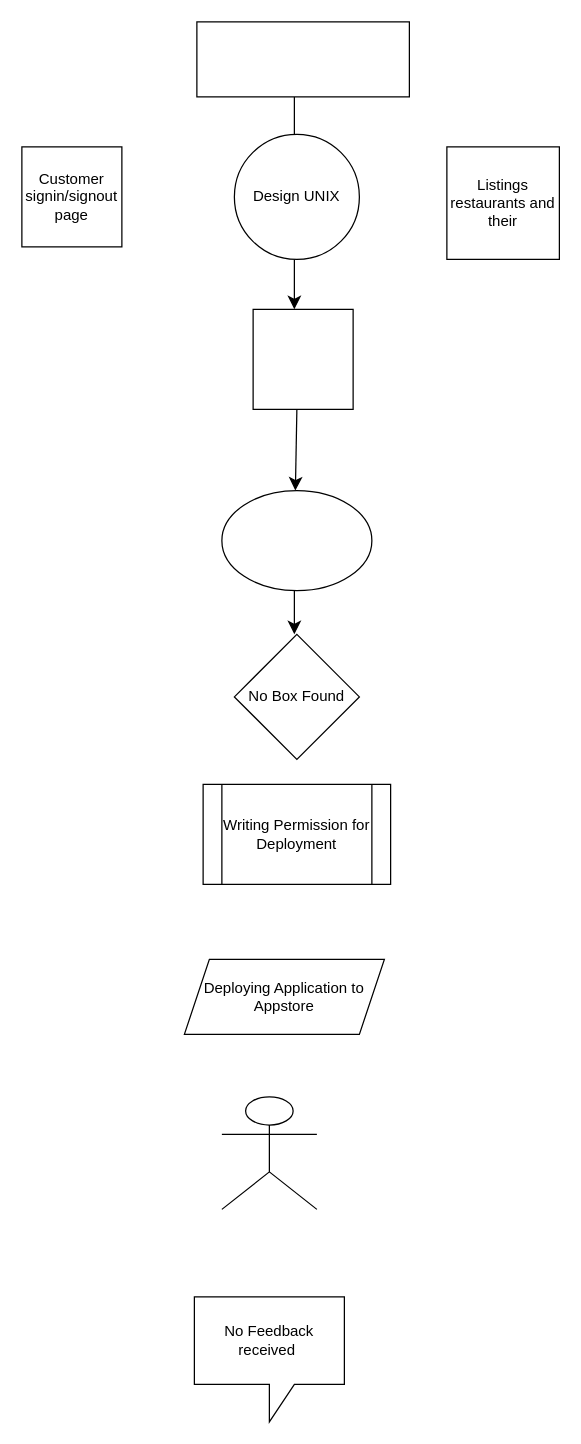
Image size: 581x1444. Some labels were removed from this diagram. Here are the shapes that lost their labels. From the top down, the centre of each, then its label:
the point at 302,59: RK Foods
the point at 302,358: Checkout page and RTS
the point at 296,540: Compiling code into APK
the point at 269,1152: Customer using application
